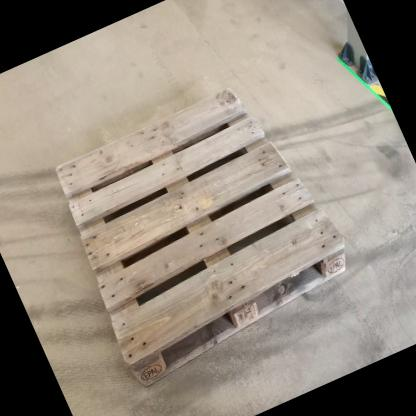BoxFace: (48, 78, 355, 396)
